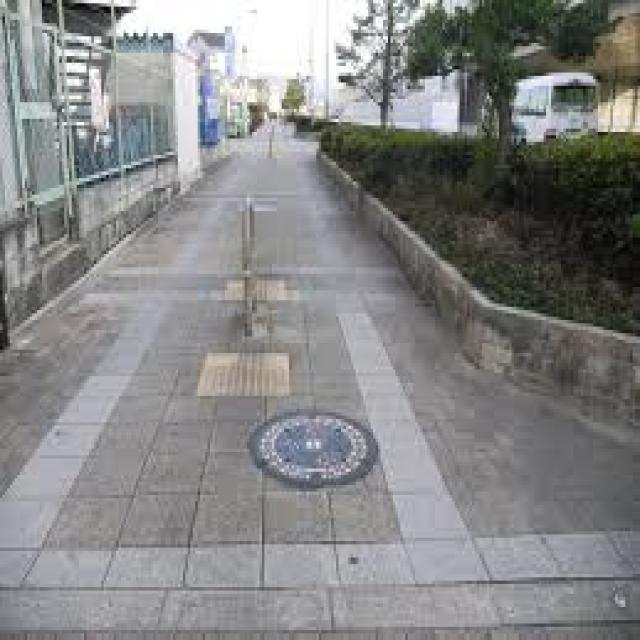manhole: (246, 409, 375, 491)
